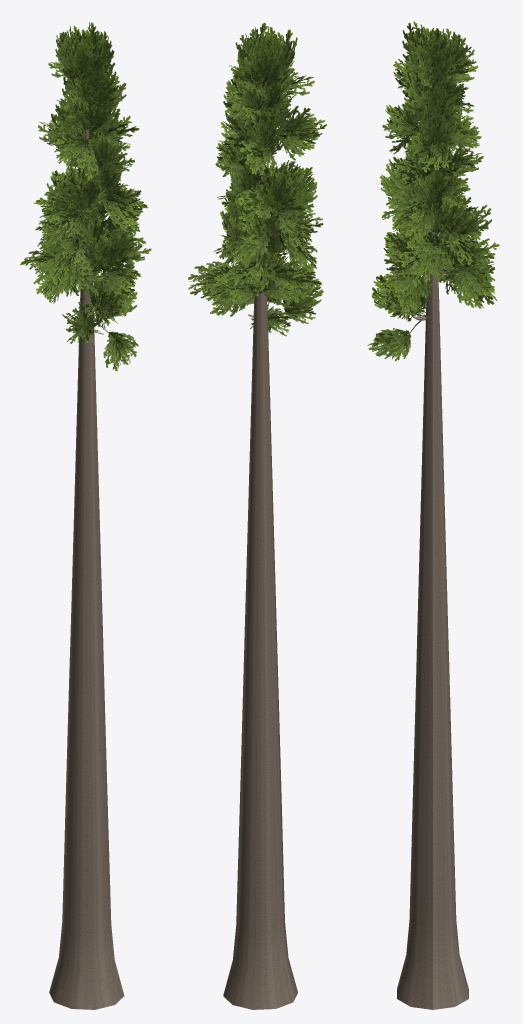
The model's file is Redwood_2.obj.
3 views of the same model, side by side, from view 1: azimuth 30°, elevation 25°; view 2: azimuth 150°, elevation 25°; view 3: azimuth 270°, elevation 25° (orthographic).
Visible parts, largest first — view 1: Redwood_2; view 2: Redwood_2; view 3: Redwood_2.
Part boxes in pixels (left/top/right/bottom): Redwood_2: left=20, top=22, right=151, bottom=1009; Redwood_2: left=188, top=22, right=326, bottom=1009; Redwood_2: left=367, top=21, right=499, bottom=1009.
Bounding box in the file's own units: 13.17 × 105 × 14.35.
Materials: 2 (2 with a texture image).
